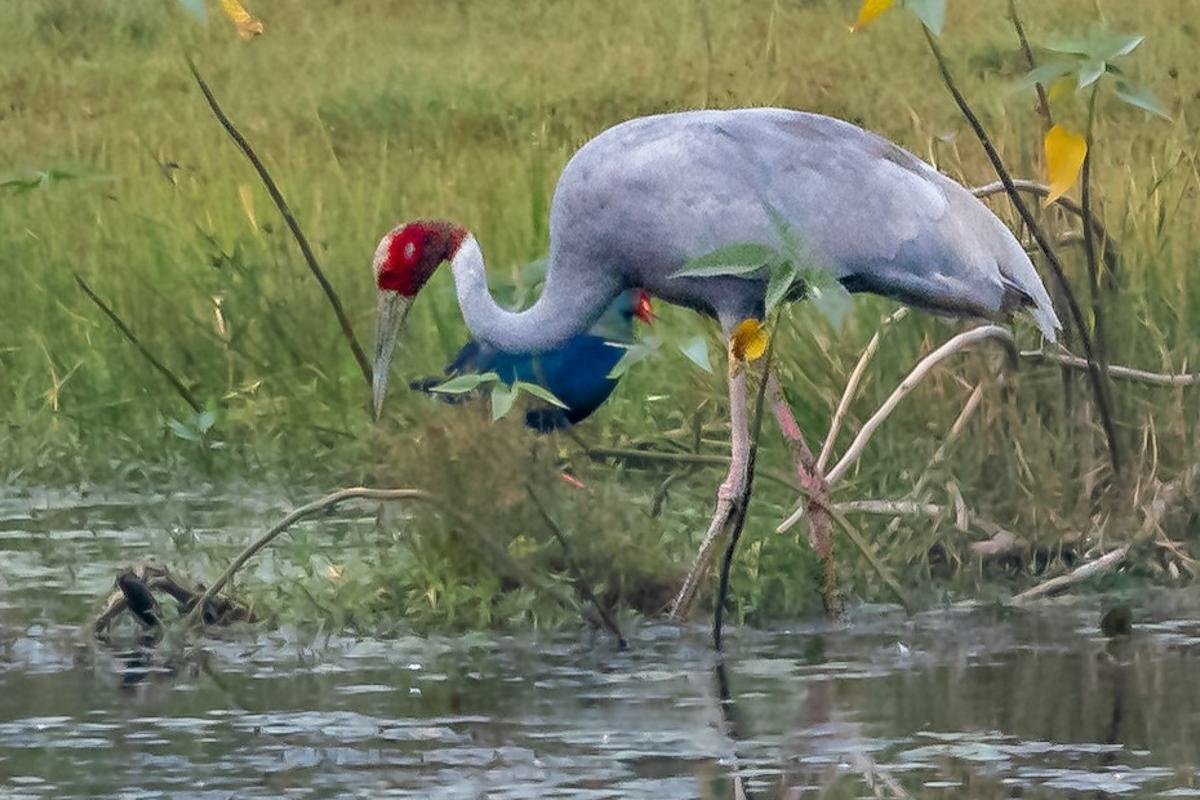crane: (361, 103, 1066, 648)
